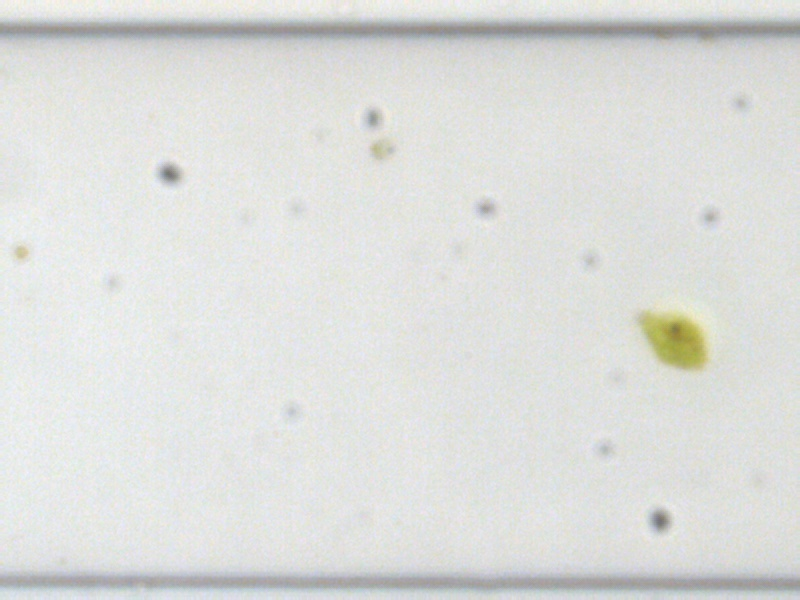Chlorella: (10, 244, 28, 260)
Dunaliella salina: (368, 137, 398, 159)
Haematococcus: (632, 305, 712, 371)
